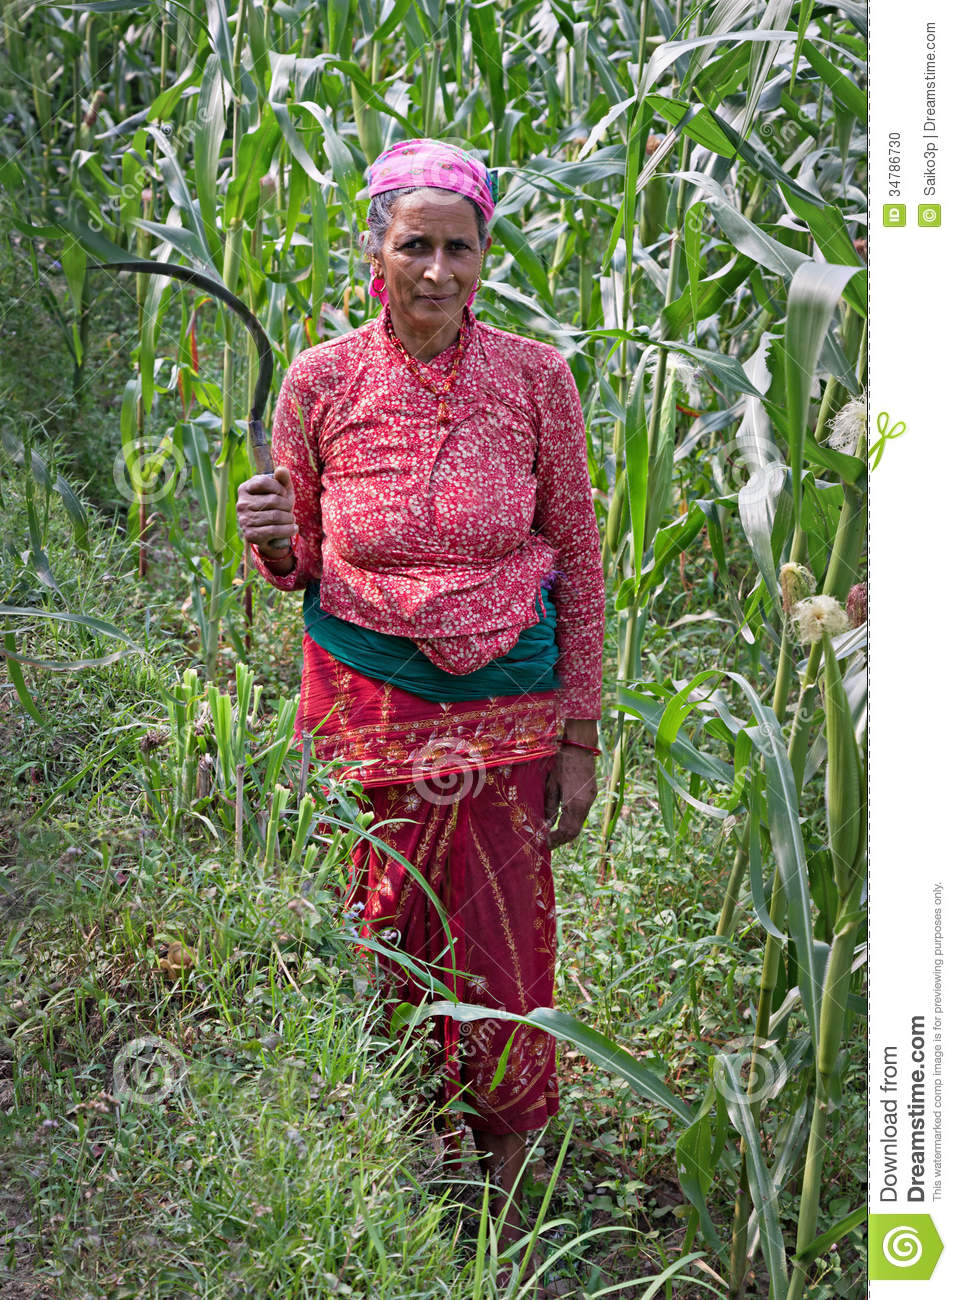human: (223, 129, 623, 1249)
